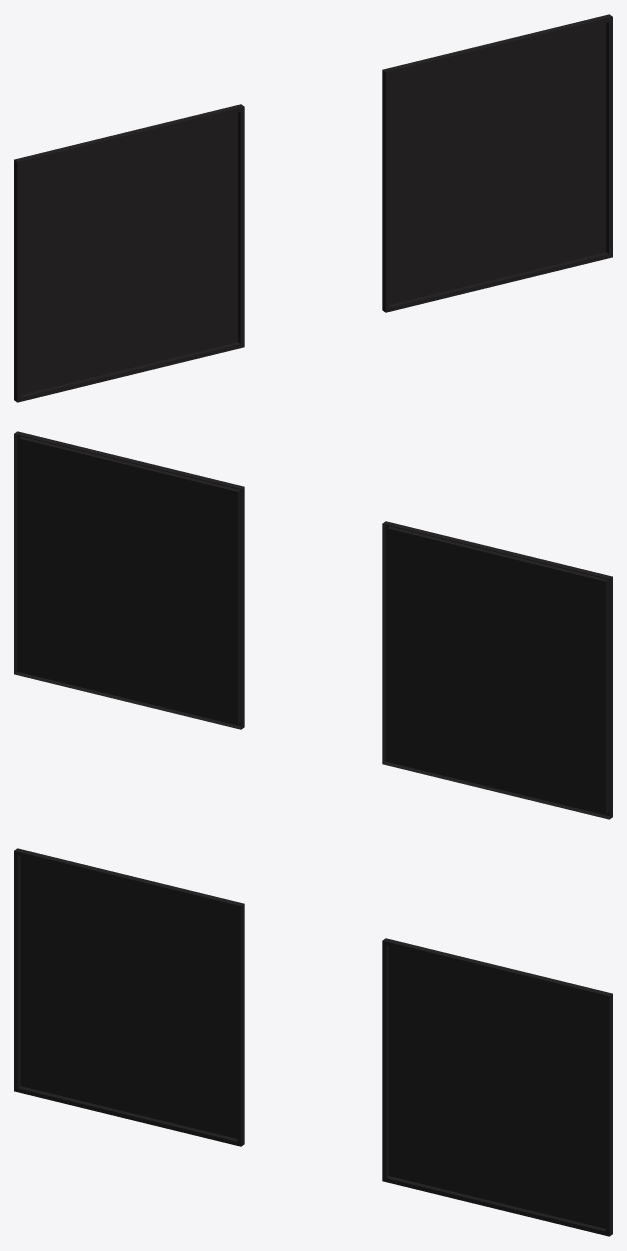
The model's file is M_Dogdoor02.FBX.
The picture shows the model from 3 angles, top to bottom: view 1: azimuth 30°, elevation 25°; view 2: azimuth 150°, elevation 25°; view 3: azimuth 330°, elevation 25°; orthographic projection.
Parts seen in each view (by area): view 1: M_Dogdoor02_02, M_Dogdoor02_01; view 2: M_Dogdoor02_02, M_Dogdoor02_01; view 3: M_Dogdoor02_02, M_Dogdoor02_01.
Part boxes in pixels (x1,y1,x2,y2): M_Dogdoor02_02: (21,23,606,394); M_Dogdoor02_01: (14,14,612,402); M_Dogdoor02_02: (18,438,606,813); M_Dogdoor02_01: (14,431,612,819); M_Dogdoor02_02: (20,857,605,1228); M_Dogdoor02_01: (14,848,612,1236).
Size of the model in its own units: 8.97 by 3.46 by 0.0907.
